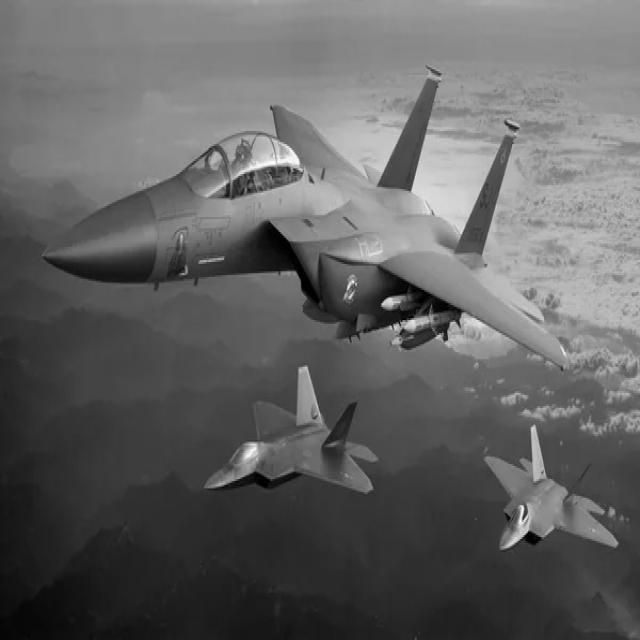Aircraft: (34, 68, 572, 374), (192, 364, 388, 507), (484, 416, 619, 585)
